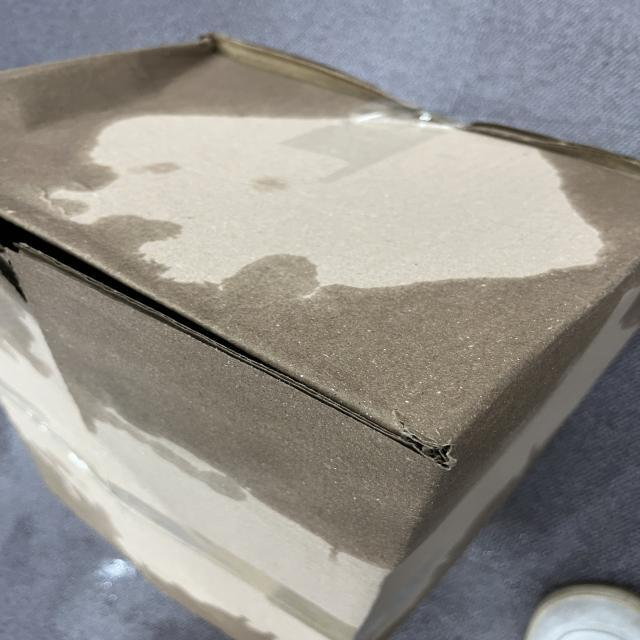wet: (10, 229, 531, 508), (2, 33, 406, 207), (563, 125, 640, 289)
